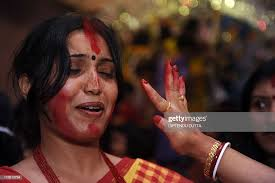indian_female: (27, 15, 130, 153)
